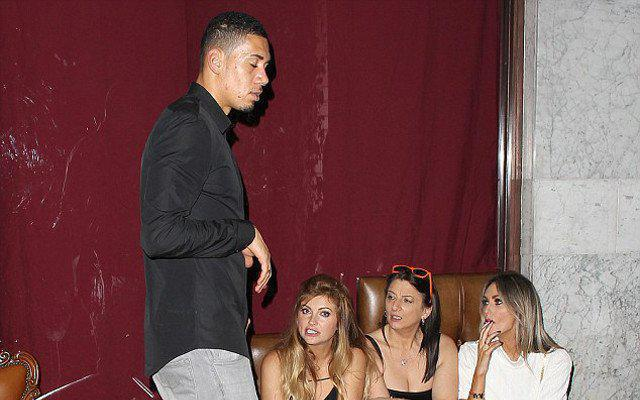Drunk: (239, 33, 272, 110), (297, 299, 337, 348), (384, 279, 421, 329), (479, 286, 519, 332)
